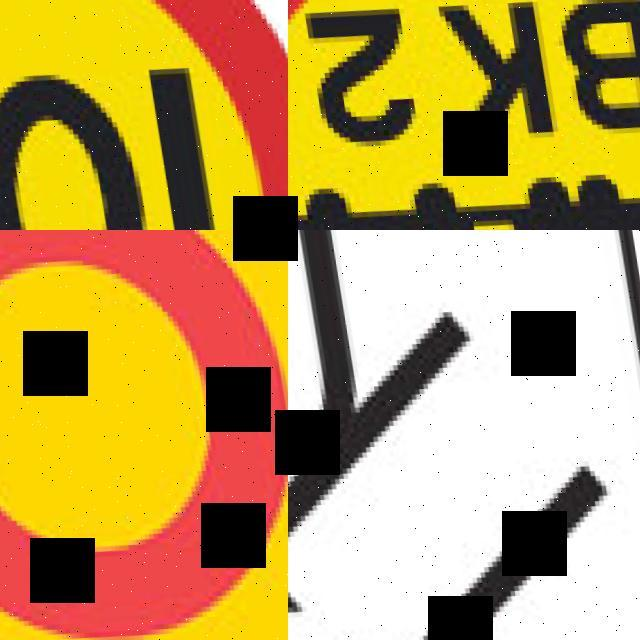15: (288, 0, 640, 230)
169: (288, 230, 640, 640)
82: (0, 230, 288, 640)
speed limit-100: (0, 0, 288, 230)
